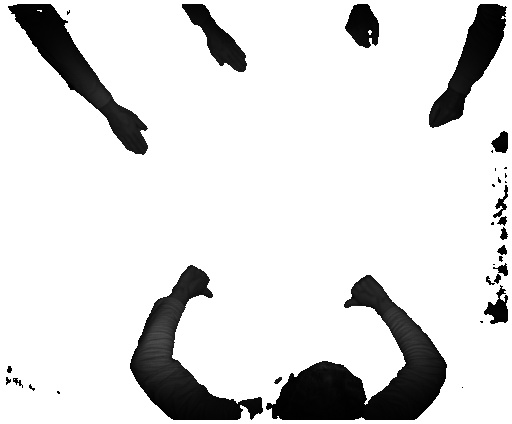hand: (109, 108, 151, 159), (344, 272, 387, 314), (210, 31, 247, 71), (424, 92, 465, 127), (344, 11, 383, 47), (178, 264, 215, 301)
